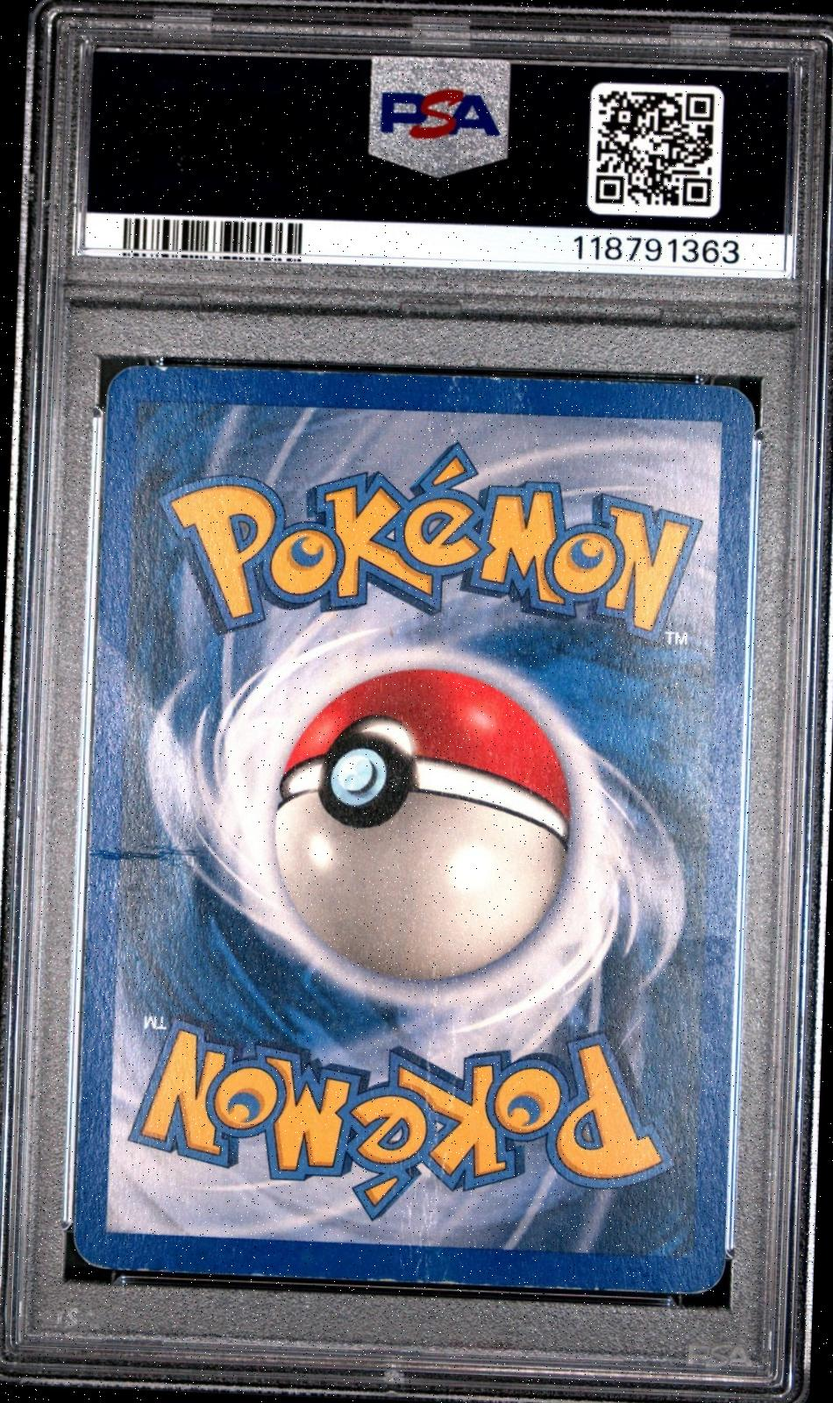card-2UtV: (73, 364, 755, 1295)
